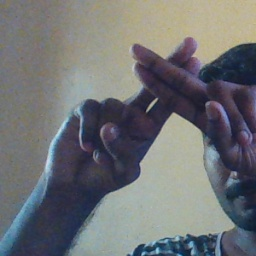F: (96, 31, 245, 157)
